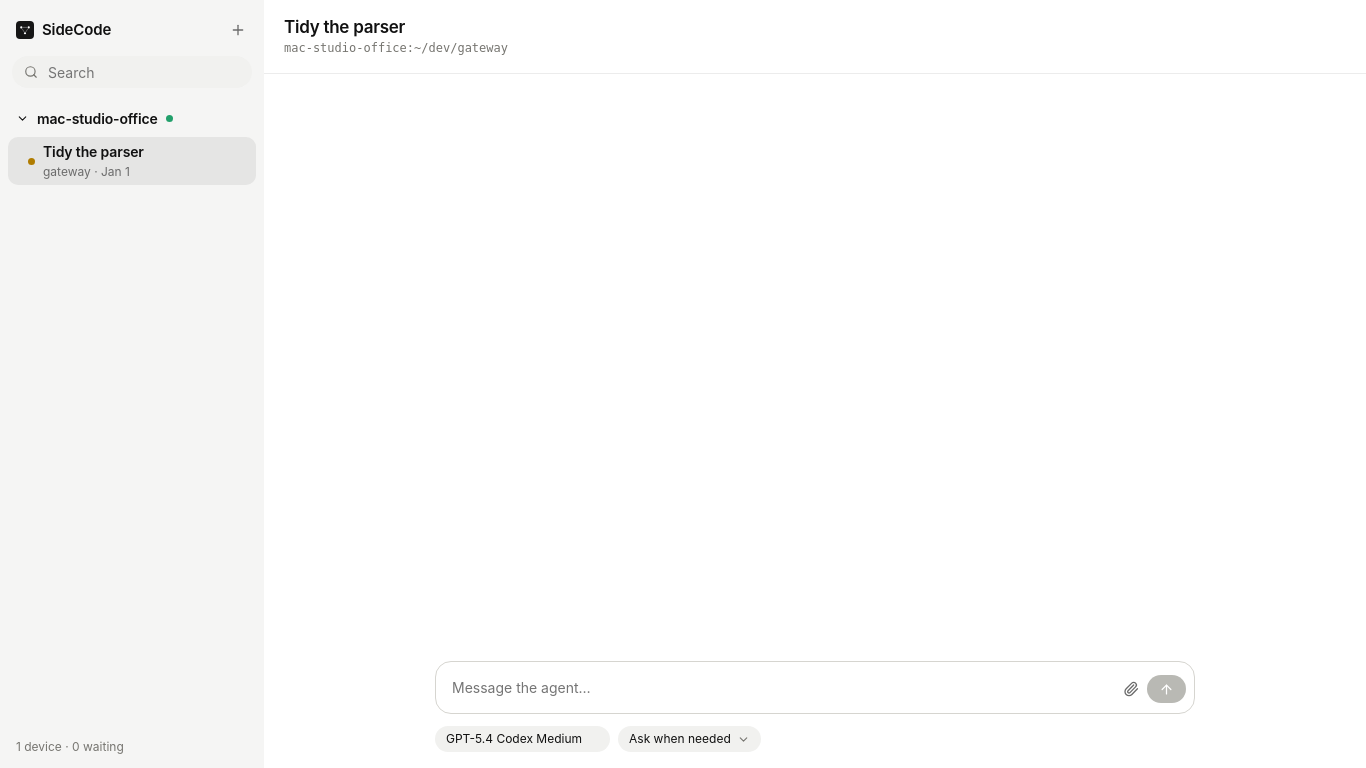
Scenario: the model card writes before the device answers › does not overwrite a session.updated that landed in between
The image size is (1366, 768).
Step 1. Click the button with aria-label "Model and effort" → (522, 739), box [435,726,610,752]
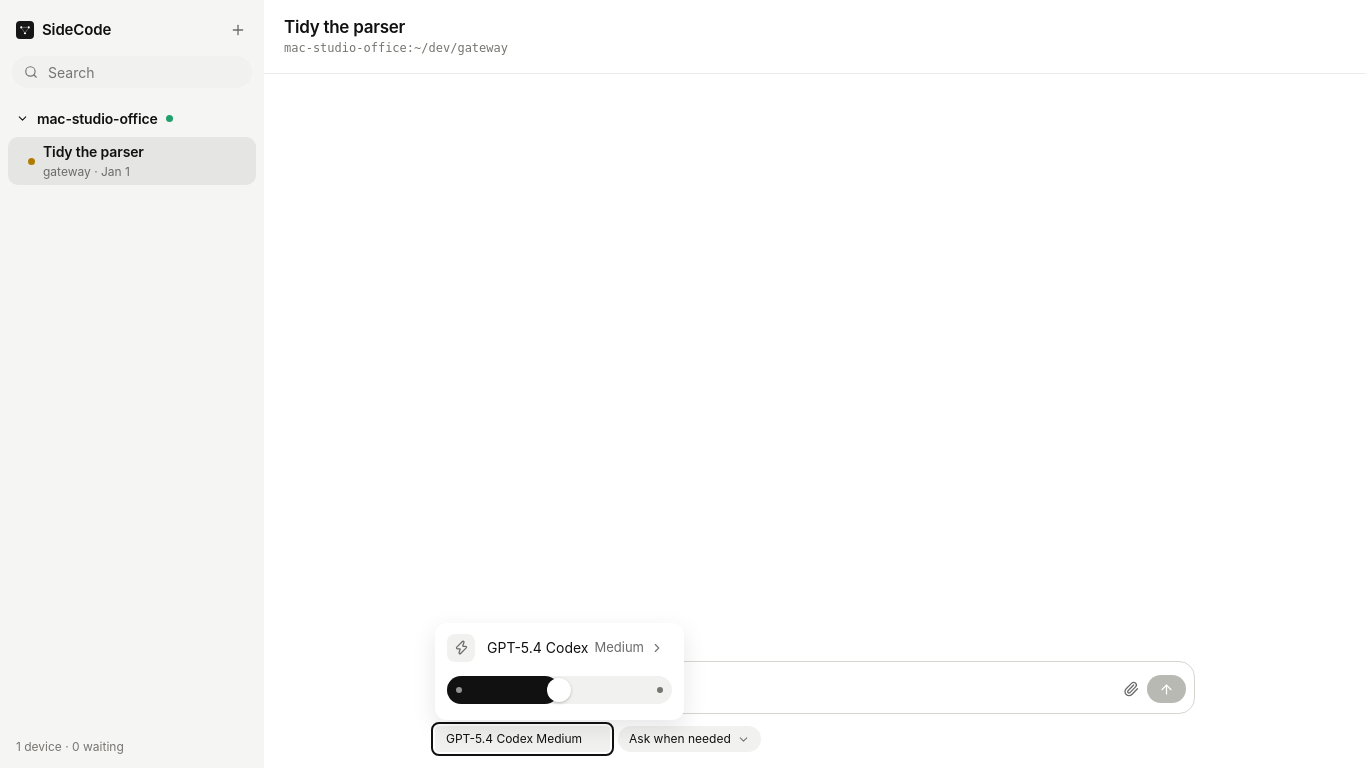
Step 2. Click the button named "Speed, Standard" → (461, 648), box [447,634,475,662]
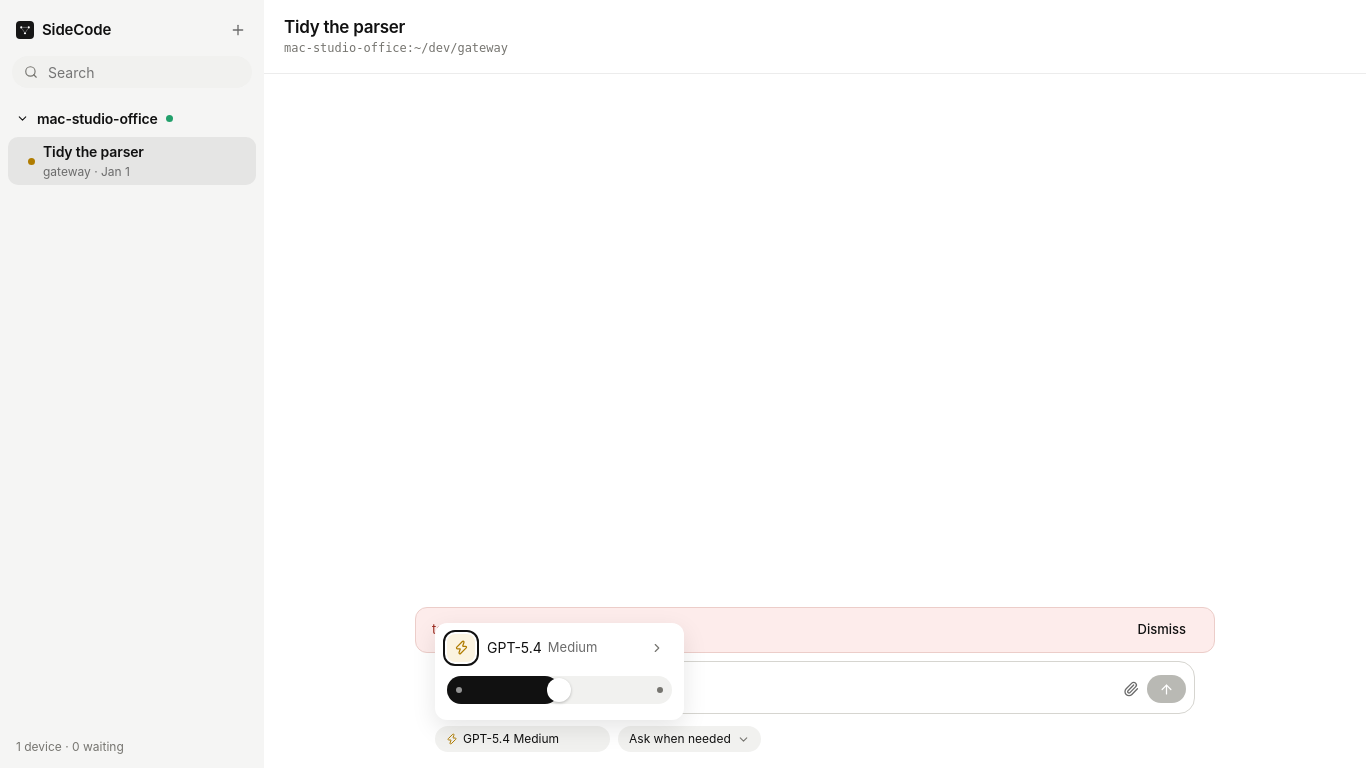
Expected: the text "too late" is shown, [432,621,478,637]
